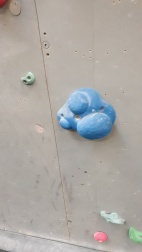Sloper: (56, 87, 117, 140)
